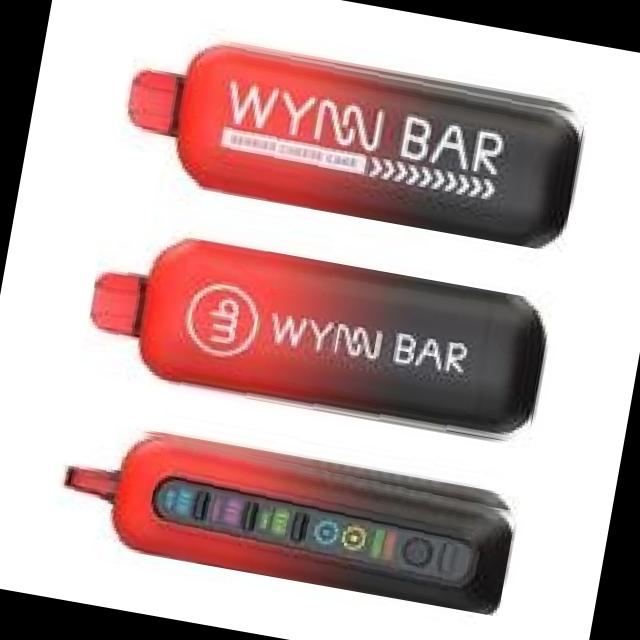Hazard: (110, 24, 588, 252), (79, 221, 553, 449), (49, 415, 518, 615)
